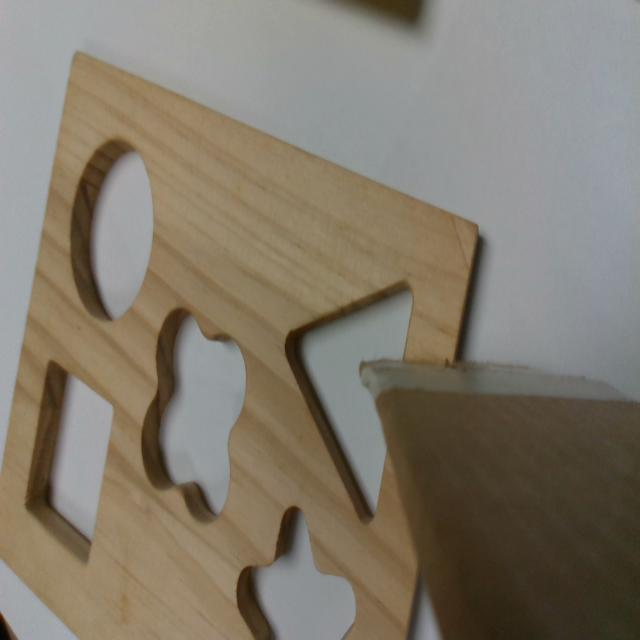circle: (69, 137, 157, 325)
flower: (141, 308, 247, 519)
square: (23, 359, 116, 563)
star: (235, 508, 356, 638)
triangle: (284, 278, 413, 521)
